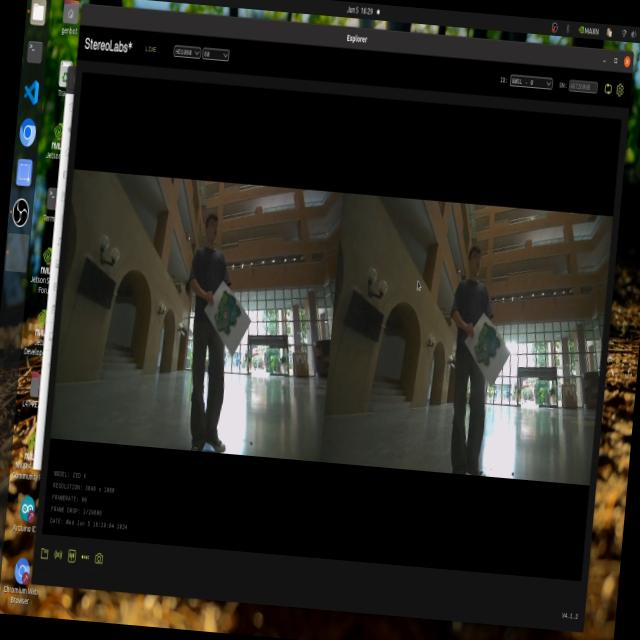green: (460, 317, 509, 372), (210, 282, 247, 346)
